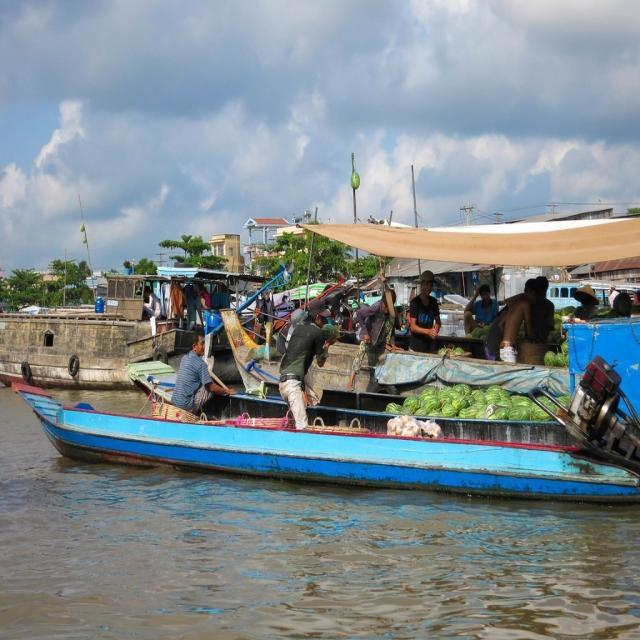boat: (19, 371, 640, 502)
